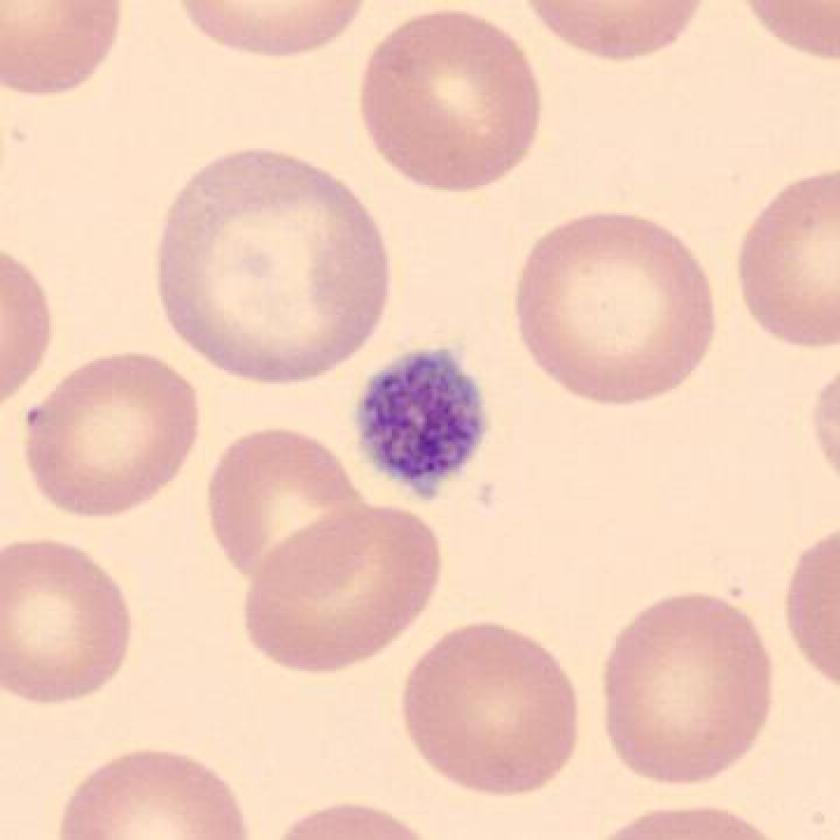platelets: (346, 341, 498, 503)
